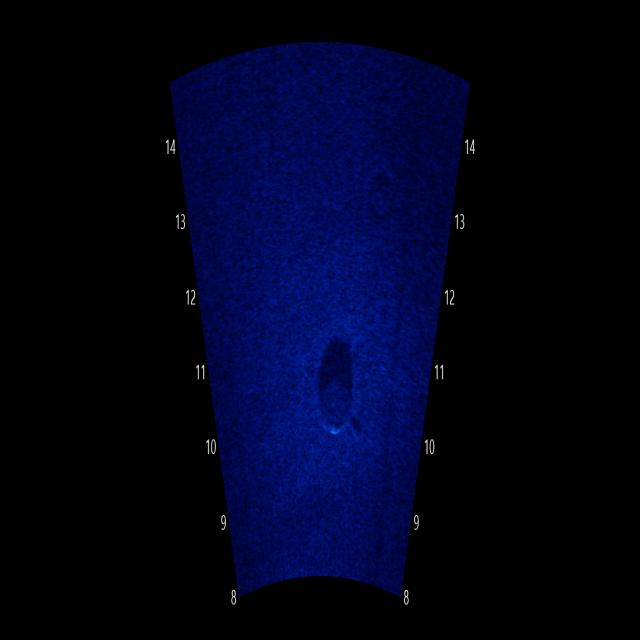circle: (317, 343, 369, 464)
